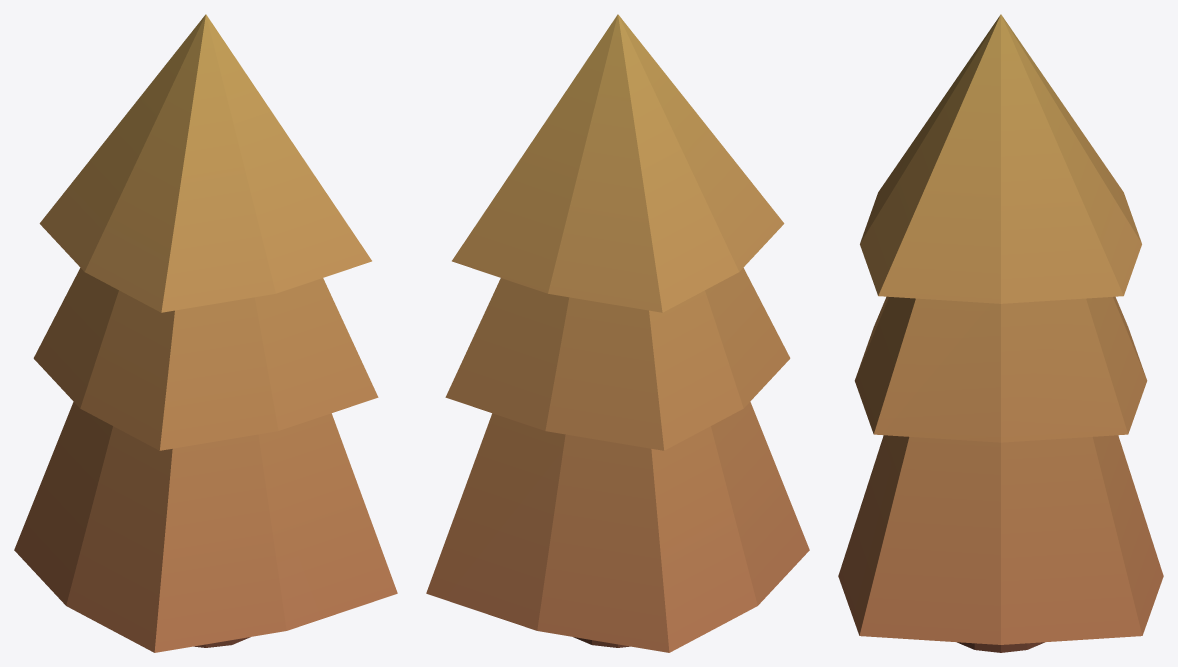
Rendered from Tree_23_gradient_yellow_vc.fbx.
3 renders of one model, left to right at view 1: azimuth 30°, elevation 25°; view 2: azimuth 150°, elevation 25°; view 3: azimuth 270°, elevation 25°, orthographic.
Visible parts, largest first — view 1: Tree_23_gradient_yellow_vc; view 2: Tree_23_gradient_yellow_vc; view 3: Tree_23_gradient_yellow_vc.
Boxes of the visible parts, x1,y1,x2,y2 form: Tree_23_gradient_yellow_vc: [14, 14, 397, 652]; Tree_23_gradient_yellow_vc: [426, 14, 809, 652]; Tree_23_gradient_yellow_vc: [838, 14, 1163, 652].
Bounding box in the file's own units: 90.1 × 188 × 90.1.
